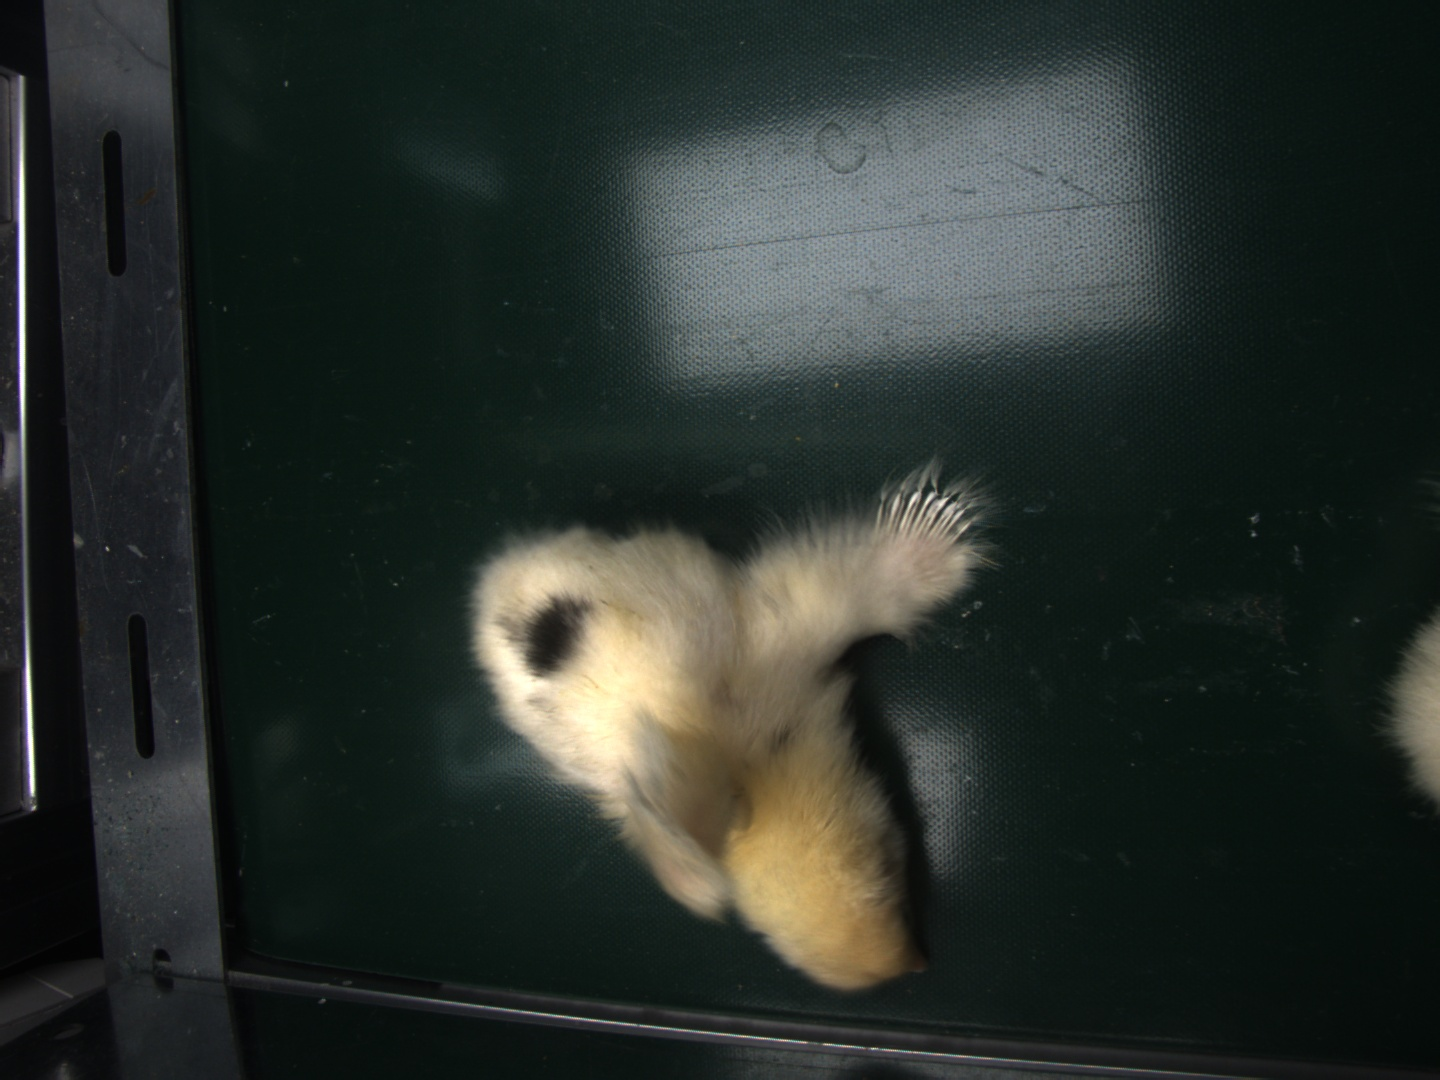male: (880, 493, 967, 548)
